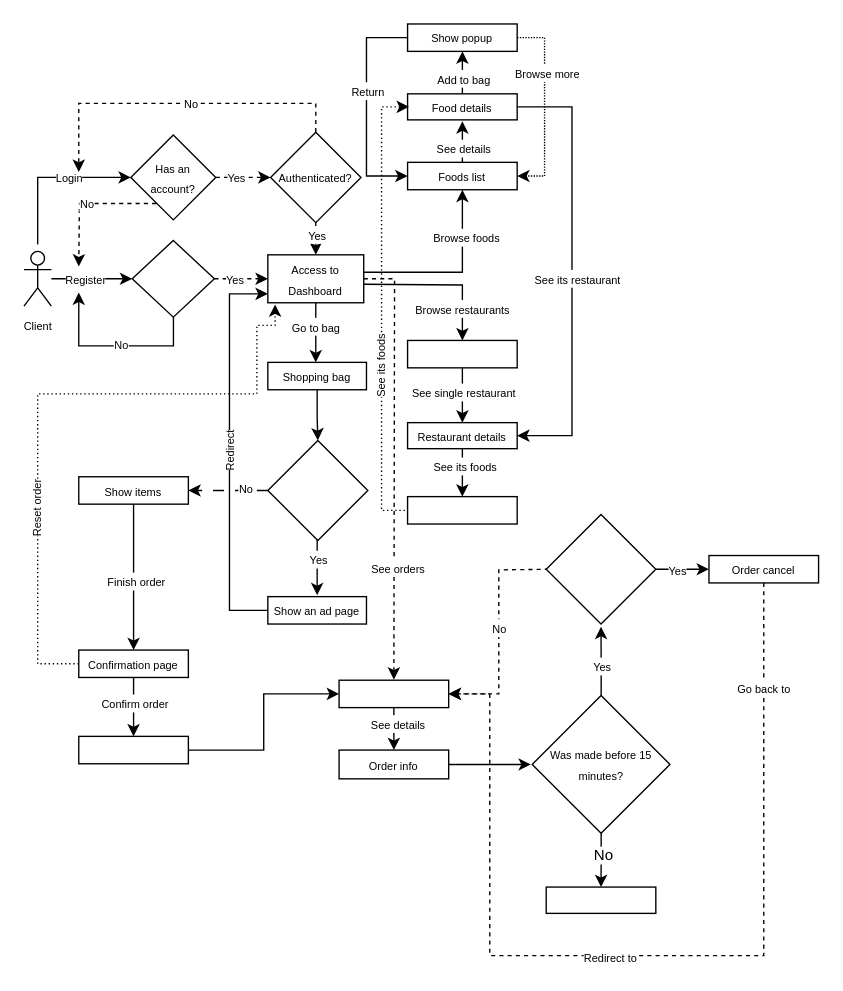
This 843x991 diagram has some shape labels left out. The shapes that lost their labels are listed below. From the top down, each one's box as (x1, y1, x2, y2) in pixels, then its label:
(131, 239, 214, 317): Filled all fields?
(406, 339, 517, 368): Restaurants list
(266, 439, 368, 540): Is empty?
(406, 495, 517, 524): Restaurant's foods
(545, 513, 656, 624): Wants to cancel?
(338, 679, 449, 708): Orders page
(77, 735, 188, 764): Success page
(545, 886, 656, 913): Cannot cancel
